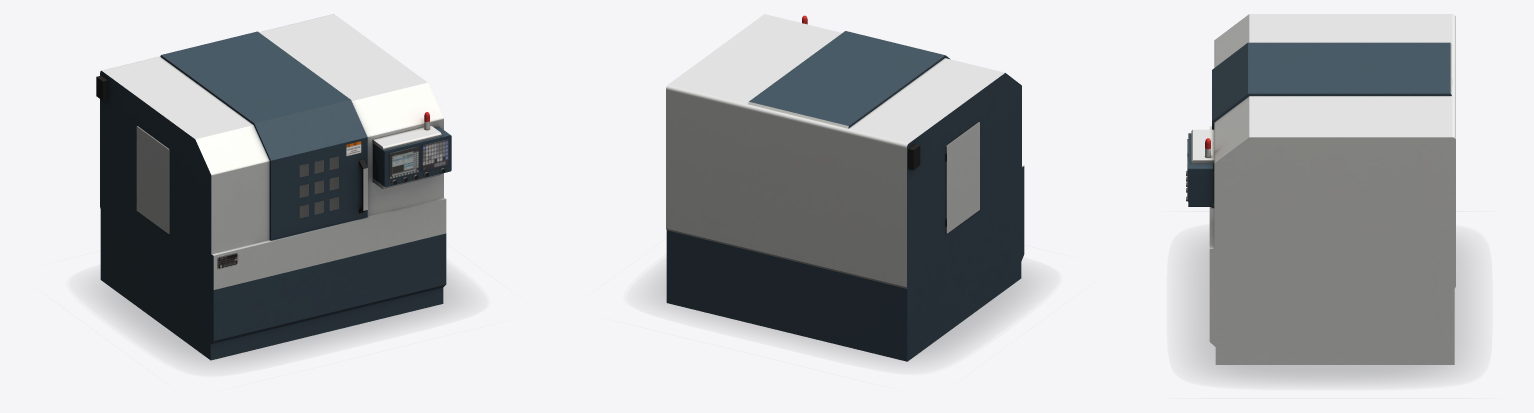
File: shukongjichuang.obj
The picture shows the model from 3 angles, left to right: view 1: azimuth 30°, elevation 25°; view 2: azimuth 150°, elevation 25°; view 3: azimuth 270°, elevation 25°; orthographic projection. The views are drawn at different scales.
Visible parts, largest first — view 1: shukongjichuang; view 2: shukongjichuang; view 3: shukongjichuang.
Part boxes in pixels (x1,y1,x2,y2): shukongjichuang: (90,14,466,366); shukongjichuang: (648,14,1038,363); shukongjichuang: (1185,14,1473,383).
Bounding box in the file's own units: 344 × 197 × 293.
Materials: 2 (2 with a texture image).
